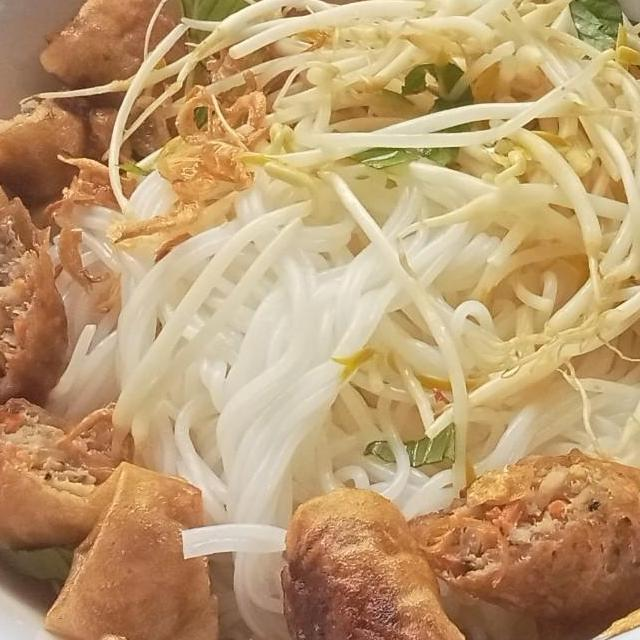bun: (37, 142, 640, 581)
cha gio: (388, 440, 640, 629), (37, 453, 227, 640), (273, 481, 480, 640), (28, 0, 221, 137), (0, 391, 143, 560), (0, 188, 75, 425), (0, 80, 140, 205)
